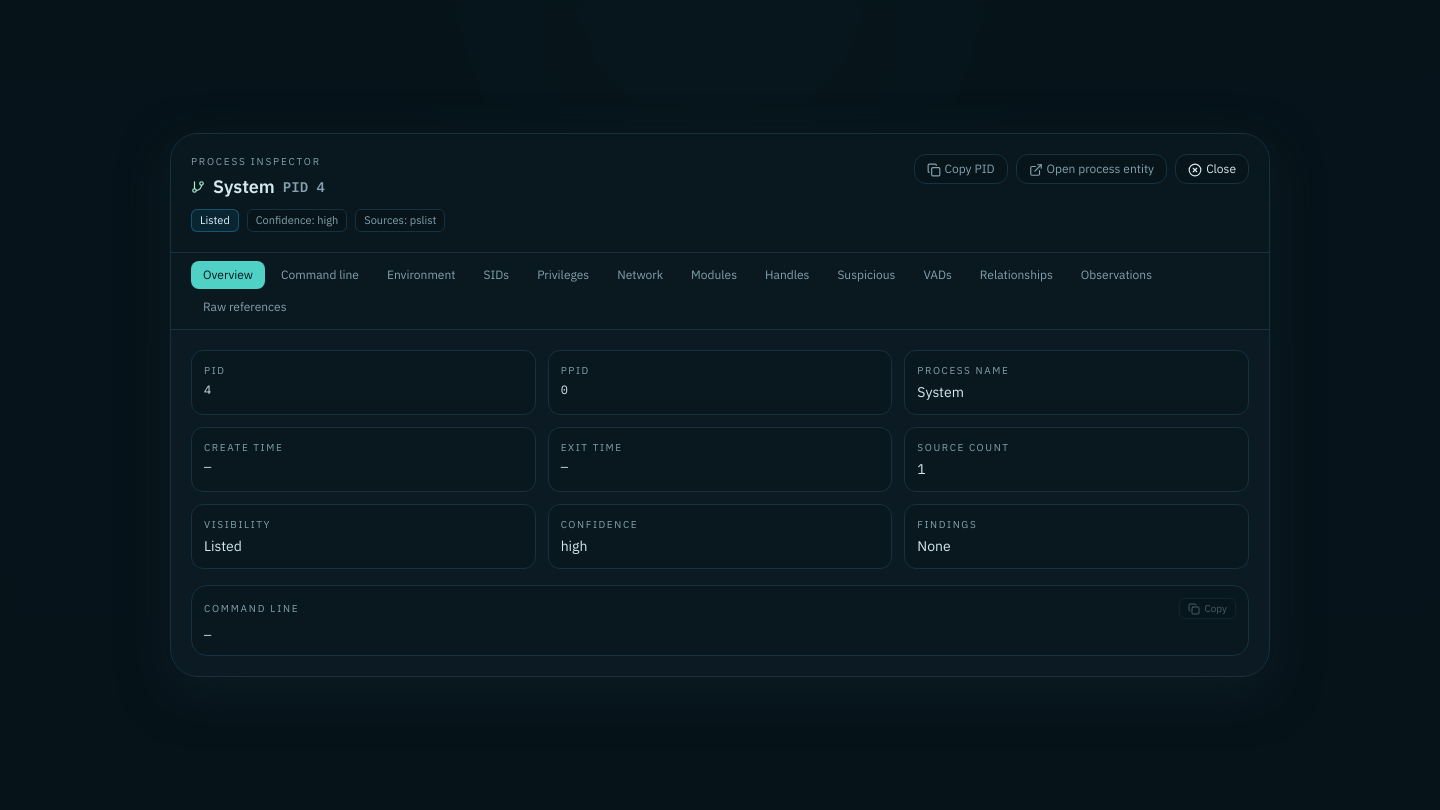
Test case: ProcessDetailModal › environment › shows completed-empty state
Check: the dialog with test id "process-detail-modal" is shown, box [170,133,1270,677]
Click the tab with test id "process-detail-modal-tab-environment": (421,275) [375,261,468,289]
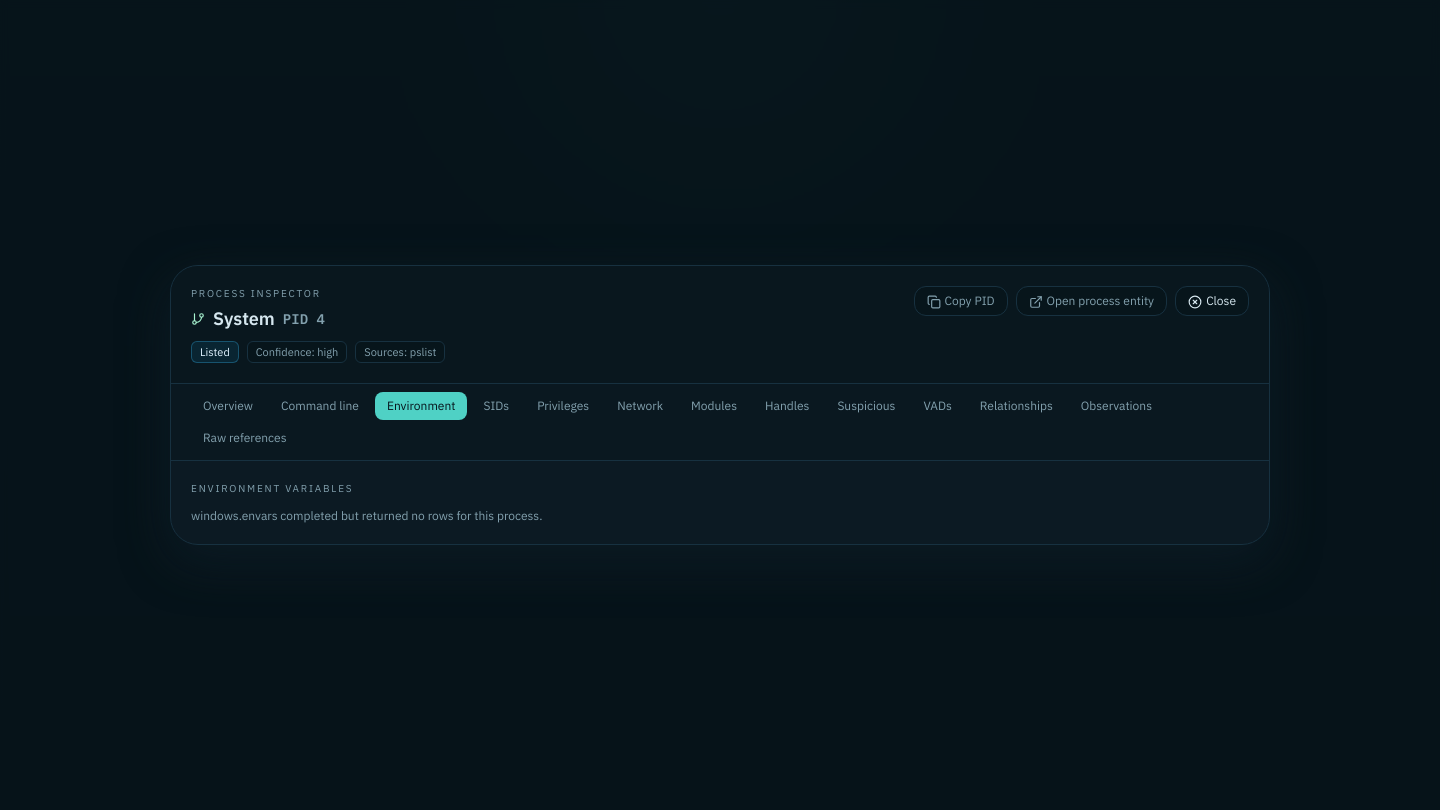
Check: the text "completed but returned no rows" is shown, box [191,508,542,523]
